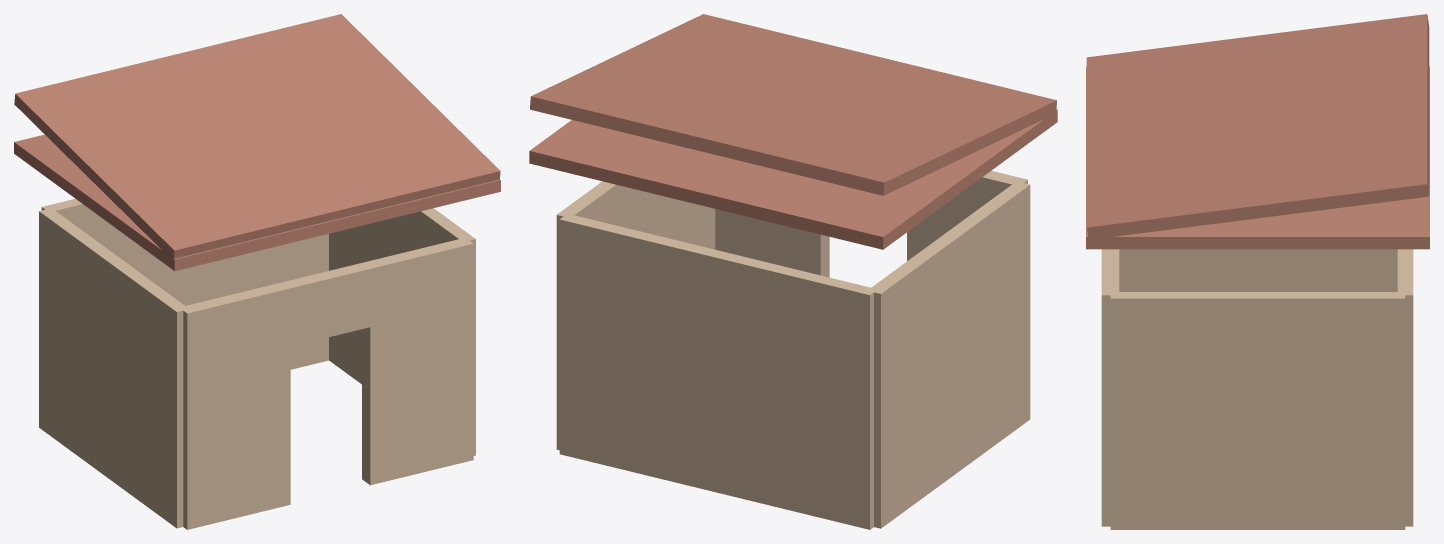
File: house_shed.fbx
3 renders of one model, left to right at view 1: azimuth 30°, elevation 25°; view 2: azimuth 150°, elevation 25°; view 3: azimuth 270°, elevation 25°, orthographic. The views are drawn at different scales.
Visible parts, largest first — view 1: Roof.001, Left, Front_R, Front_L, Back, Roof, Right, Front_Top; view 2: Back, Roof.001, Left, Roof, Right, Front_R, Front_L; view 3: Right, Roof.001, Left, Roof, Front_R, Back.
Boxes of the visible parts, bbox=[...] form: Roof.001: bbox=[14, 14, 500, 259]; Left: bbox=[39, 209, 188, 528]; Front_R: bbox=[362, 237, 473, 485]; Front_L: bbox=[183, 282, 290, 529]; Back: bbox=[41, 199, 328, 369]; Roof: bbox=[14, 134, 500, 271]; Right: bbox=[329, 208, 475, 455]; Front_Top: bbox=[283, 263, 370, 346]; Back: bbox=[559, 213, 877, 529]; Roof.001: bbox=[530, 14, 1056, 195]; Left: bbox=[867, 181, 1030, 528]; Roof: bbox=[529, 109, 1057, 249]; Right: bbox=[556, 181, 715, 450]; Front_R: bbox=[715, 209, 829, 277]; Front_L: bbox=[907, 170, 1027, 260]; Right: bbox=[1110, 292, 1405, 529]; Roof.001: bbox=[1086, 14, 1429, 239]; Left: bbox=[1119, 249, 1397, 291]; Roof: bbox=[1086, 66, 1429, 249]; Front_R: bbox=[1101, 249, 1119, 526]; Back: bbox=[1397, 249, 1413, 526].
Bounding box in the file's own units: 4.1 × 3.96 × 3.5.
